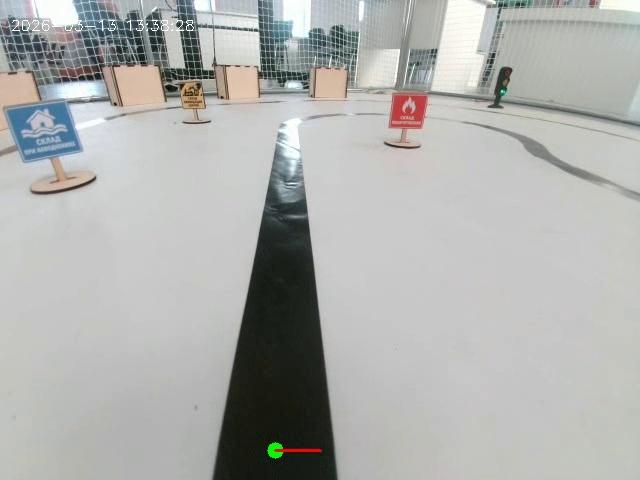fire: (384, 91, 440, 157)
flood: (12, 99, 99, 198)
industrial: (181, 74, 211, 135)
